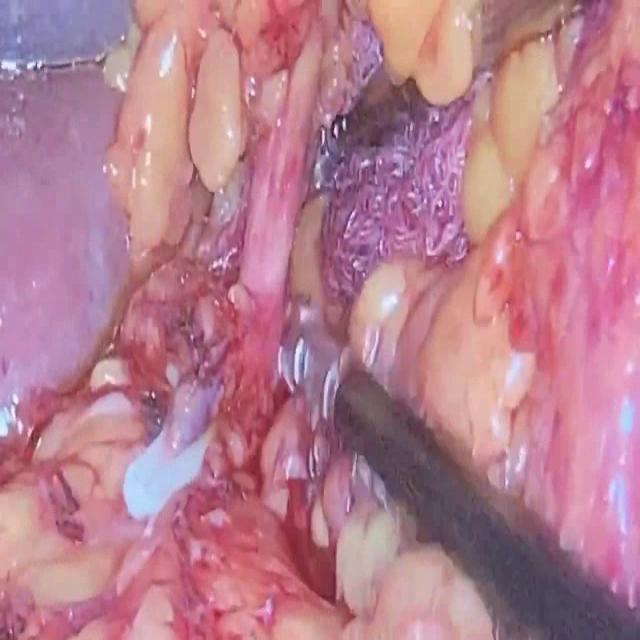surgical-area: (0, 0, 640, 639)
surgical-tool: (274, 294, 640, 639)
